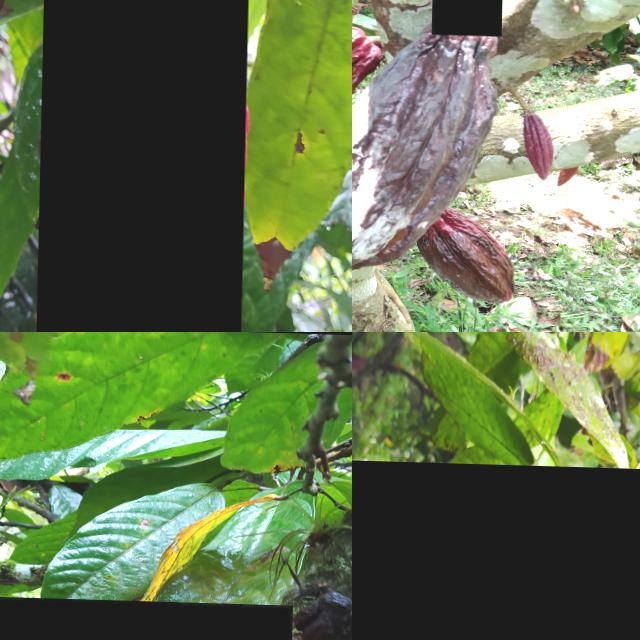Fitoftora: (35, 0, 250, 332), (352, 456, 640, 640), (417, 222, 521, 302)
Monilia: (352, 19, 496, 262)
Sana: (518, 113, 569, 177), (432, 0, 504, 33)
